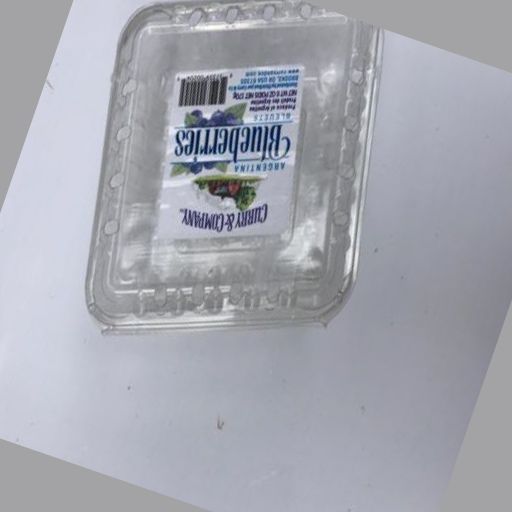Plastic_4: (79, 1, 385, 334)
